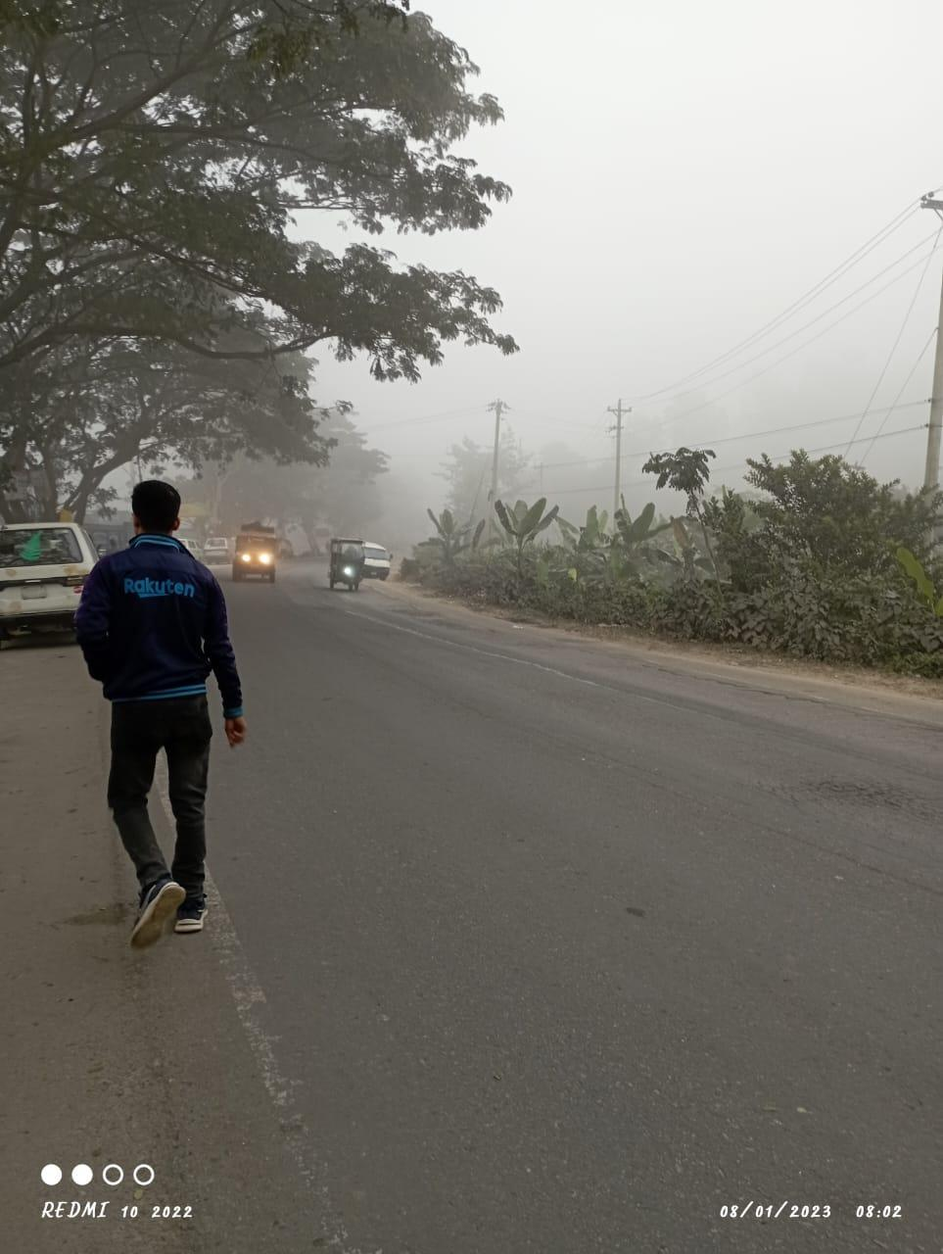Car: (1, 513, 108, 633), (225, 518, 286, 585), (321, 529, 371, 601), (365, 537, 398, 585)
